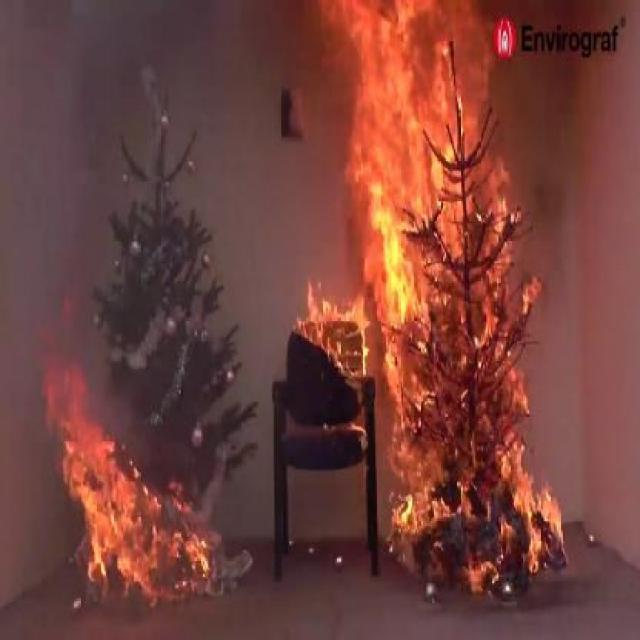fire: (362, 87, 528, 544), (46, 354, 220, 590)
smoke: (54, 50, 280, 272)
